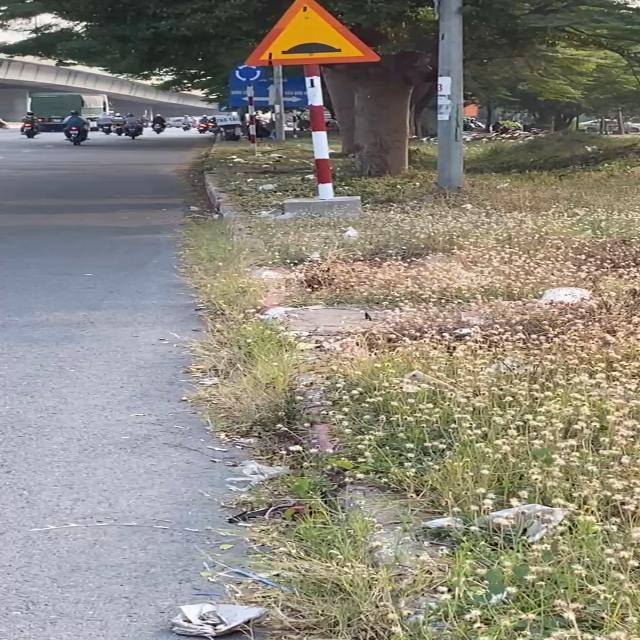221-duong-go-ghe: (242, 0, 382, 68)
303-noi-giao-nhau-chay-theo-vong-xuyen: (232, 64, 264, 82)
